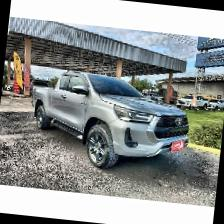NON-EV: (27, 66, 196, 178)
